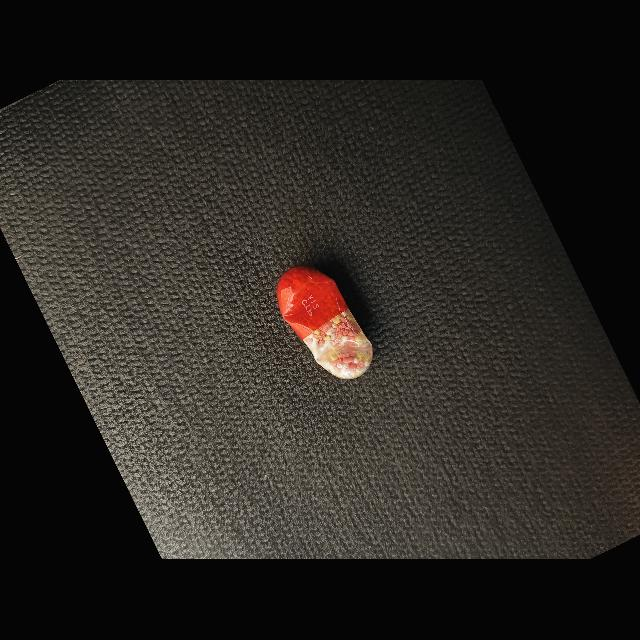Defective Capsule: (277, 266, 372, 380)
